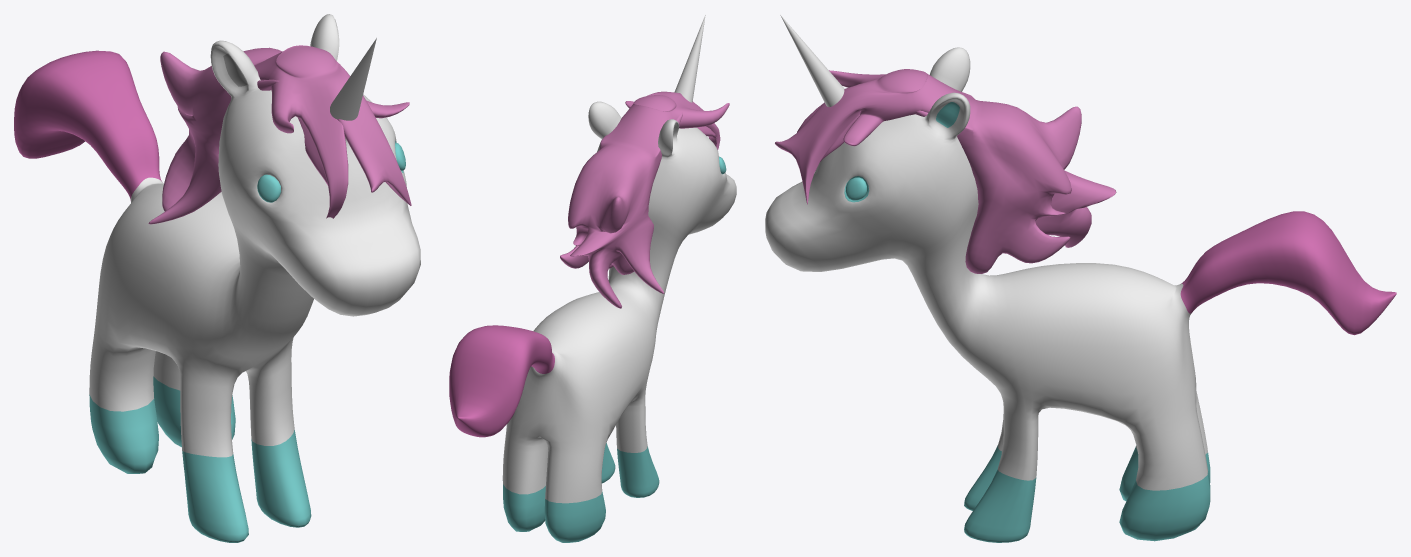
Rendered from unicorn.gltf.
3 views of the same model, side by side, from view 1: azimuth 30°, elevation 25°; view 2: azimuth 150°, elevation 25°; view 3: azimuth 270°, elevation 25° (orthographic). The views are drawn at different scales.
Parts seen in each view (by area): view 1: pCube8; view 2: pCube8; view 3: pCube8.
Boxes of the visible parts, x1,y1,x2,y2 form: pCube8: (14,14,420,542); pCube8: (449,15,736,542); pCube8: (765,14,1396,542).
Bounding box in the file's own units: 2.27 × 7.74 × 8.7.
